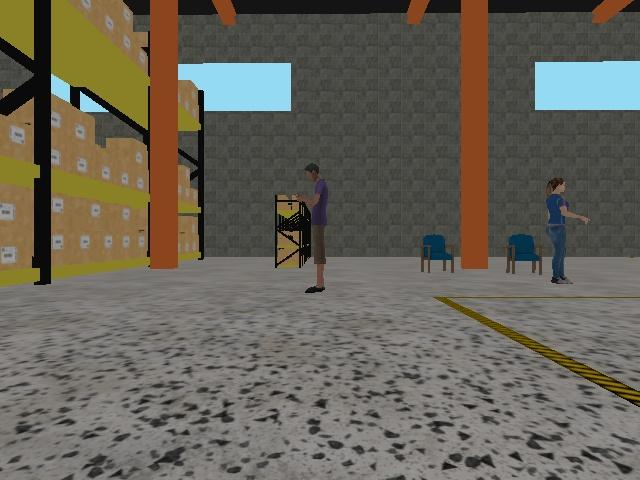chair: (505, 233, 545, 275), (418, 234, 457, 274)
person: (545, 177, 591, 285), (293, 162, 329, 294)
